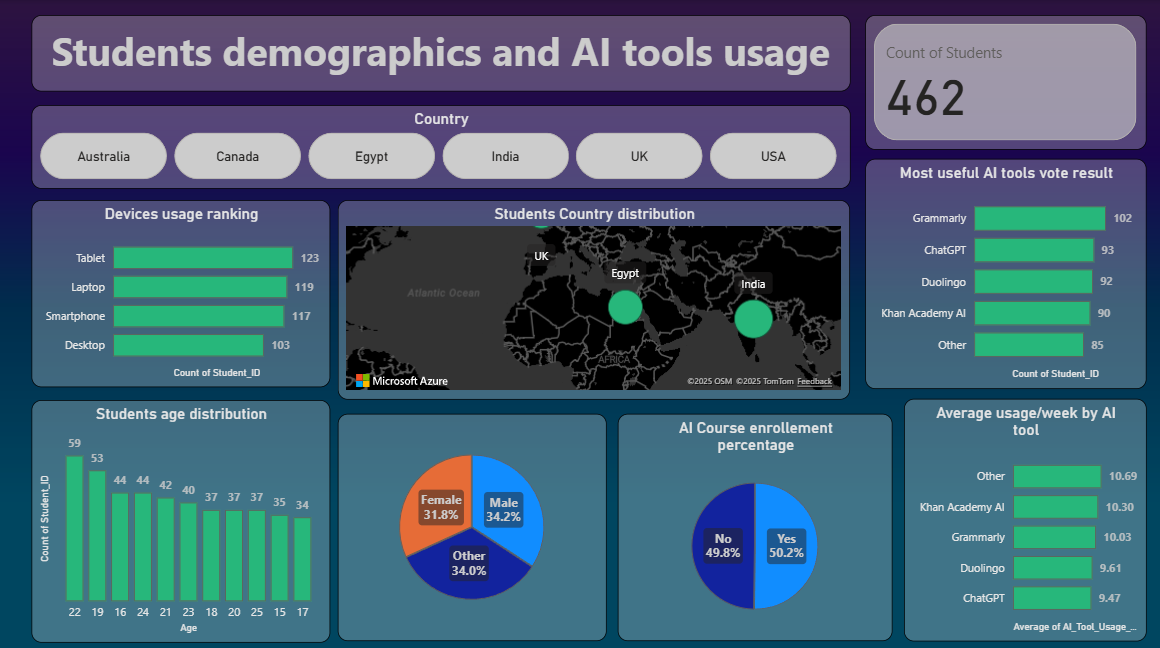

The dashboard page shown, as its layout file describes it:
{"tool":"powerbi","page":{"name":"STUDENT DEMOGRAPHICS AND AI TOOLS USAGE","canvas":[1280,720],"ordinal":0},"visuals":[{"type":"pieChart","fields":{"Category":["Data (3).Gender"],"Y":["CountNonNull(Data (3).Student_ID)"]},"box":[371.9,454.2,295,249.7],"z":0},{"type":"clusteredColumnChart","title":"Students age distribution","fields":{"Category":["Data (3).Age"],"Y":["CountNonNull(Data (3).Student_ID)"]},"box":[35.7,439.1,328,266.2],"z":1000},{"type":"azureMap","title":"Students Country distribution","fields":{"Category":["Data (3).Country"],"Size":["CountNonNull(Data (3).Student_ID)"]},"box":[371.9,219.6,562.6,219.6],"z":2000},{"type":"pieChart","title":"AI Course enrollement percentage","fields":{"Category":["Data (3).AI_Course_Enrolled"],"Y":["CountNonNull(Data (3).Student_ID)"]},"box":[679.2,454.2,301.9,249.7],"z":3000},{"type":"clusteredBarChart","title":"Average usage/week by AI tool","fields":{"Y":["Avg(Data (3).AI_Tool_Usage_Hours_per_Week)"],"Category":["Data (3).Preferred_AI_Tool"]},"box":[993.5,437.7,266.2,266.2],"z":4000},{"type":"advancedSlicerVisual","fields":{"Values":["Data (3).Country"]},"box":[35.7,115.3,898.8,91.9],"z":5000},{"type":"clusteredBarChart","title":"Most useful AI tools vote result","fields":{"Category":["Data (3).Preferred_AI_Tool"],"Y":["CountNonNull(Data (3).Student_ID)"]},"box":[950.9,174.3,308.7,252.5],"z":6000},{"type":"cardVisual","fields":{"Data":["CountNonNull(Data (3).Student_ID)"]},"box":[950.9,16.5,308.7,148.2],"z":7000},{"type":"textbox","box":[35.7,16.5,898.8,83.7],"z":8000},{"type":"clusteredBarChart","title":"Devices usage ranking","fields":{"Category":["Data (3).Device_Used"],"Y":["CountNonNull(Data (3).Student_ID)"]},"box":[35.7,219.6,328,205.8],"z":9000}]}

Visuals, with their boxes in screenshot pixels (x1, y1, x2, y2), scaled from the page's 1280x720 canvas onto the 1160x648 screenshot:
pieChart - Data (3).Gender x CountNonNull(Data (3).Student_ID): left=337, top=409, right=604, bottom=634
"Students age distribution" clusteredColumnChart: left=32, top=395, right=330, bottom=635
"Students Country distribution" azureMap: left=337, top=198, right=847, bottom=395
"AI Course enrollement percentage" pieChart: left=616, top=409, right=889, bottom=634
"Average usage/week by AI tool" clusteredBarChart: left=900, top=394, right=1142, bottom=634
advancedSlicerVisual - Data (3).Country: left=32, top=104, right=847, bottom=186
"Most useful AI tools vote result" clusteredBarChart: left=862, top=157, right=1142, bottom=384
cardVisual - CountNonNull(Data (3).Student_ID): left=862, top=15, right=1142, bottom=148
textbox: left=32, top=15, right=847, bottom=90
"Devices usage ranking" clusteredBarChart: left=32, top=198, right=330, bottom=383
